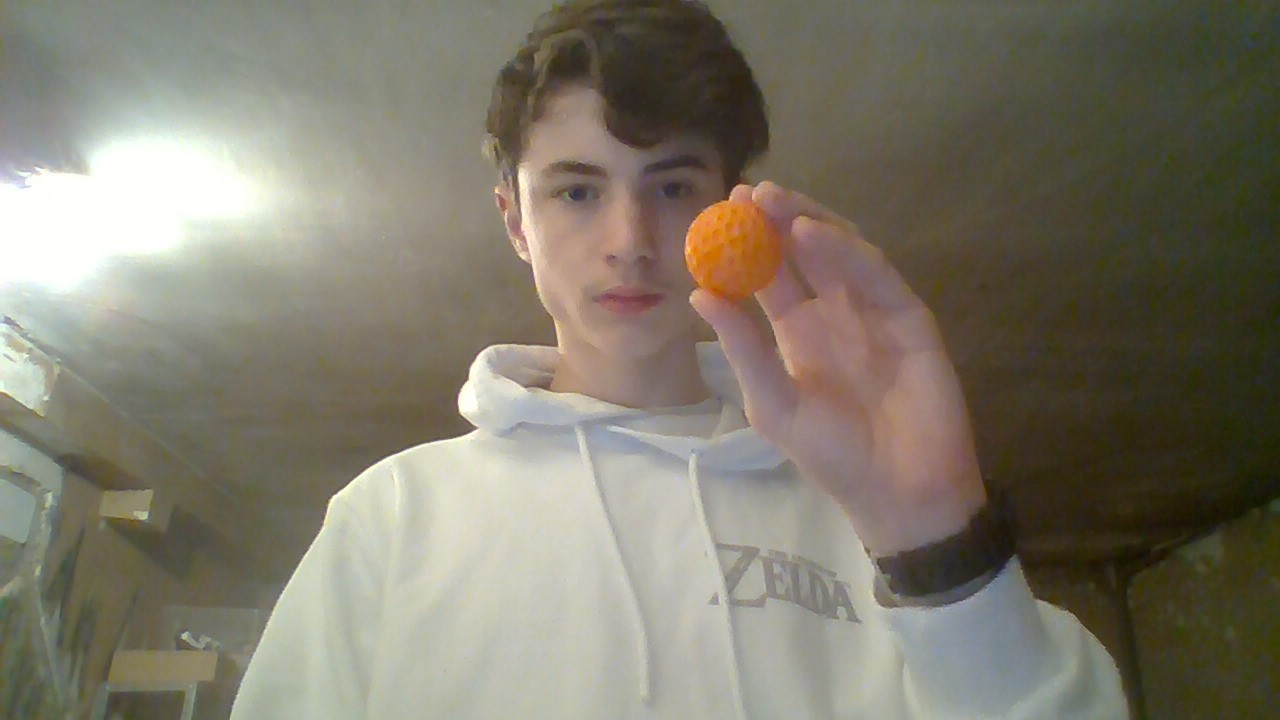ball: (685, 199, 786, 300)
